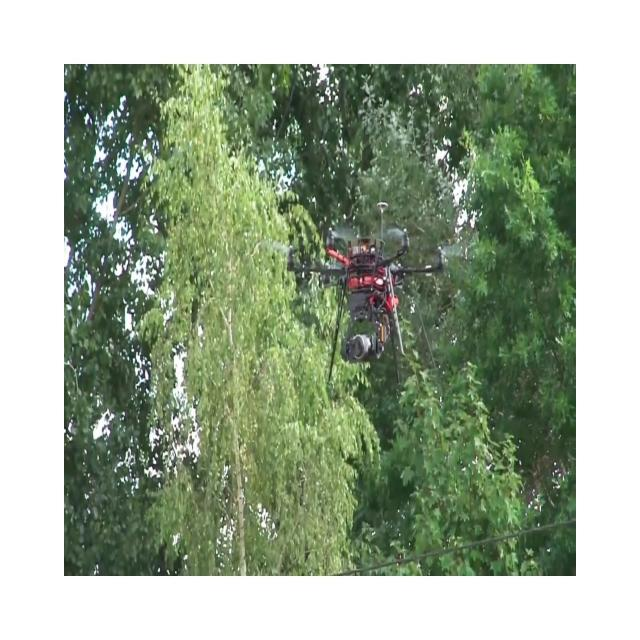drone: (259, 199, 475, 388)
